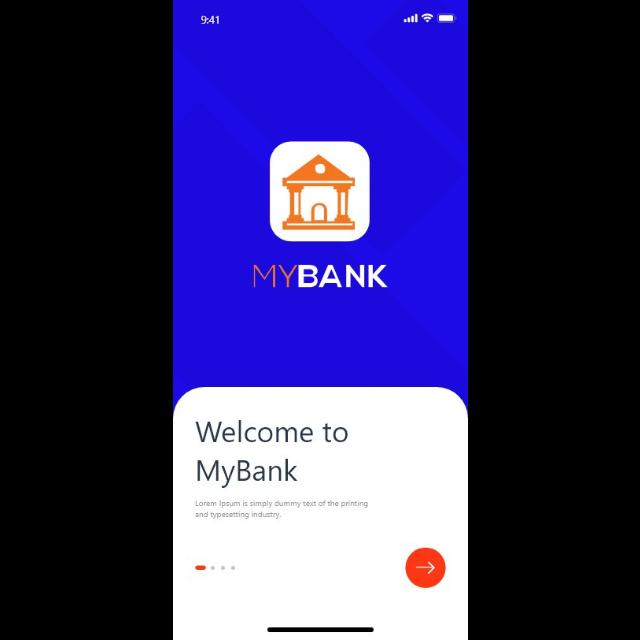icon: (405, 548, 445, 588)
image: (269, 142, 369, 242), (252, 265, 388, 287)
pageindicator: (194, 564, 236, 570)
text: (195, 419, 347, 488), (195, 500, 368, 520)
uppertaskbar: (199, 13, 456, 25)
